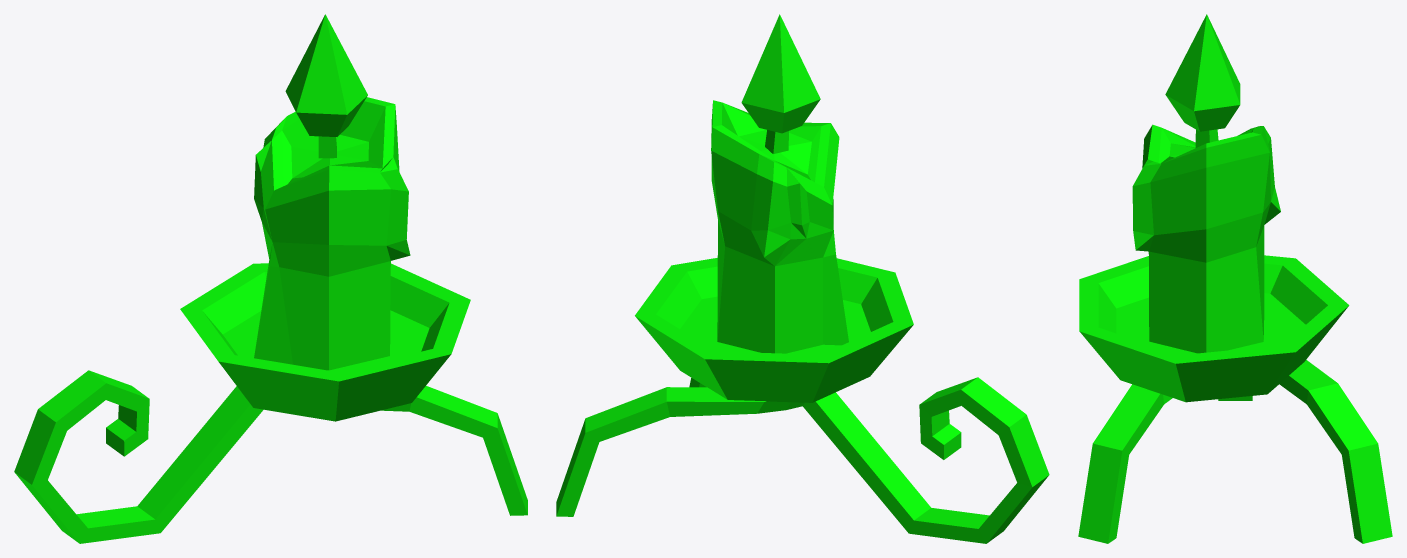
File: SM_Candle_Finger_Holder_C_Lit_Fantasy.fbx
3 renders of one model, left to right at view 1: azimuth 30°, elevation 25°; view 2: azimuth 150°, elevation 25°; view 3: azimuth 270°, elevation 25°, orthographic. The views are drawn at different scales.
Parts seen in each view (by area): view 1: candle-finger-holder-c-lit-fantasy; view 2: candle-finger-holder-c-lit-fantasy; view 3: candle-finger-holder-c-lit-fantasy.
Boxes of the visible parts, x1,y1,x2,y2 form: candle-finger-holder-c-lit-fantasy: [14, 14, 527, 543]; candle-finger-holder-c-lit-fantasy: [556, 14, 1049, 543]; candle-finger-holder-c-lit-fantasy: [1078, 14, 1392, 543].
Bounding box in the file's own units: 0.1789 × 0.1895 × 0.1172.
